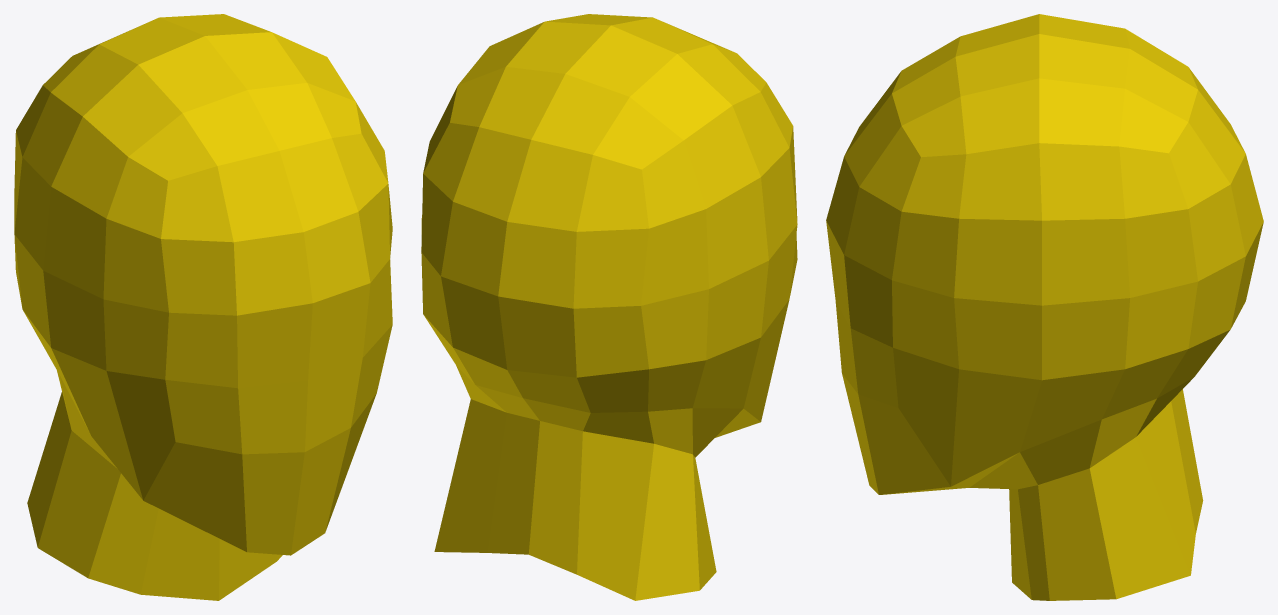
The model's file is headOfTheSudMed.fbx.
3 views of the same model, side by side, from view 1: azimuth 30°, elevation 25°; view 2: azimuth 150°, elevation 25°; view 3: azimuth 270°, elevation 25° (orthographic).
Parts seen in each view (by area): view 1: Cube.002; view 2: Cube.002; view 3: Cube.002.
Boxes of the visible parts, left/top/right/bottom form: Cube.002: left=14, top=14, right=392, bottom=600; Cube.002: left=421, top=14, right=797, bottom=600; Cube.002: left=826, top=14, right=1263, bottom=600.
Bounding box in the file's own units: 17.96 × 29.7 × 21.48.
